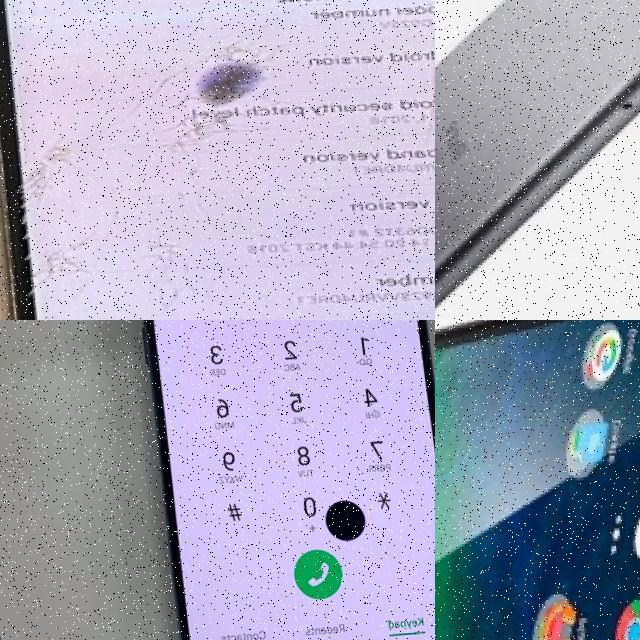screen crack: (12, 216, 214, 320), (0, 131, 79, 218), (386, 0, 435, 128)
